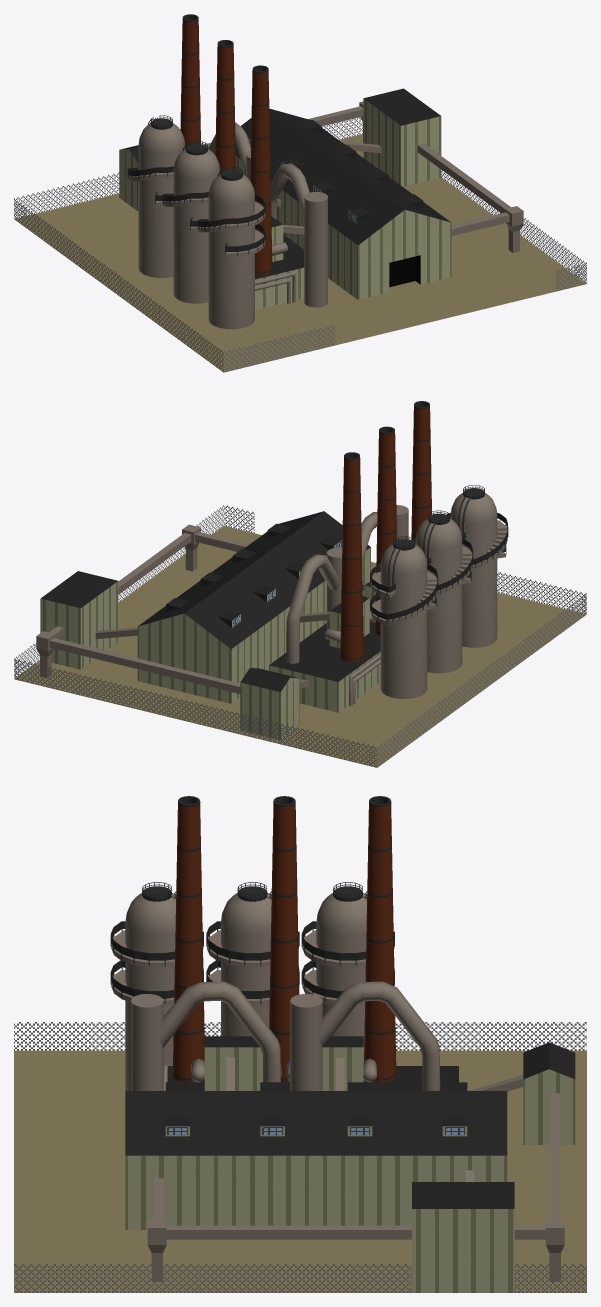
File: SteelRefinery.fbx
The picture shows the model from 3 angles, top to bottom: view 1: azimuth 30°, elevation 25°; view 2: azimuth 150°, elevation 25°; view 3: azimuth 270°, elevation 25°; orthographic projection. The views are drawn at different scales.
Visible parts, largest first — view 1: SteelRefinery; view 2: SteelRefinery; view 3: SteelRefinery.
Boxes of the visible parts, x1,y1,x2,y2 form: SteelRefinery: [14, 14, 586, 372]; SteelRefinery: [14, 401, 586, 767]; SteelRefinery: [14, 796, 586, 1292].
Bounding box in the file's own units: 1800 × 1100 × 1800.
